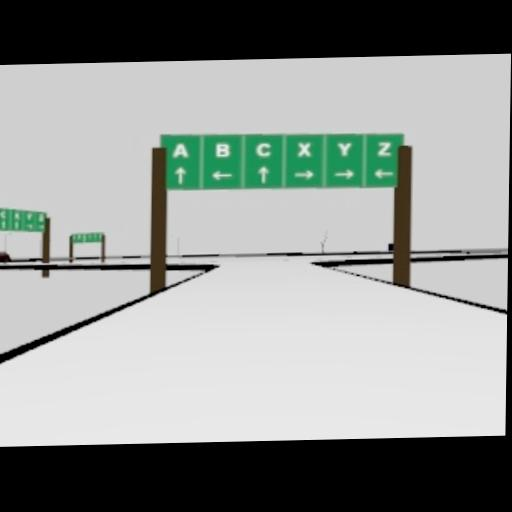A: (173, 142, 188, 158)
B: (216, 142, 229, 158)
C: (255, 142, 270, 158)
Left: (210, 170, 233, 180), (373, 168, 393, 179)
Right: (333, 168, 353, 179), (293, 169, 313, 179)
Straight: (256, 166, 268, 184), (173, 166, 185, 184)
X: (297, 142, 310, 157), (13, 211, 18, 219)
Y: (338, 142, 351, 155), (0, 220, 5, 230)
Z: (8, 211, 25, 226), (377, 141, 390, 156), (77, 232, 88, 240), (25, 212, 32, 220), (0, 210, 5, 220), (38, 212, 43, 222), (26, 222, 33, 229), (38, 222, 43, 230)
